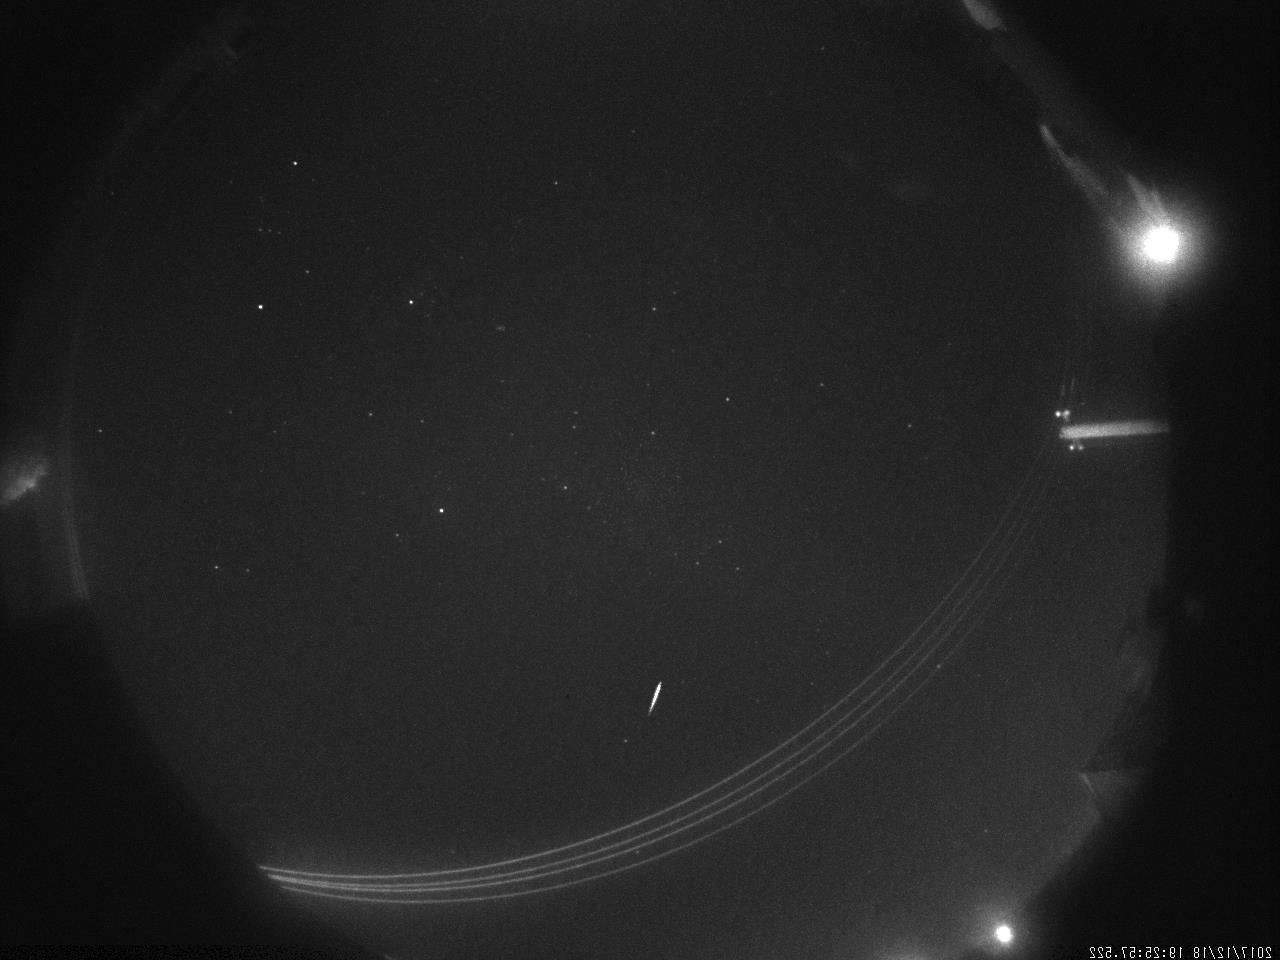meteor: (623, 665, 686, 727)
